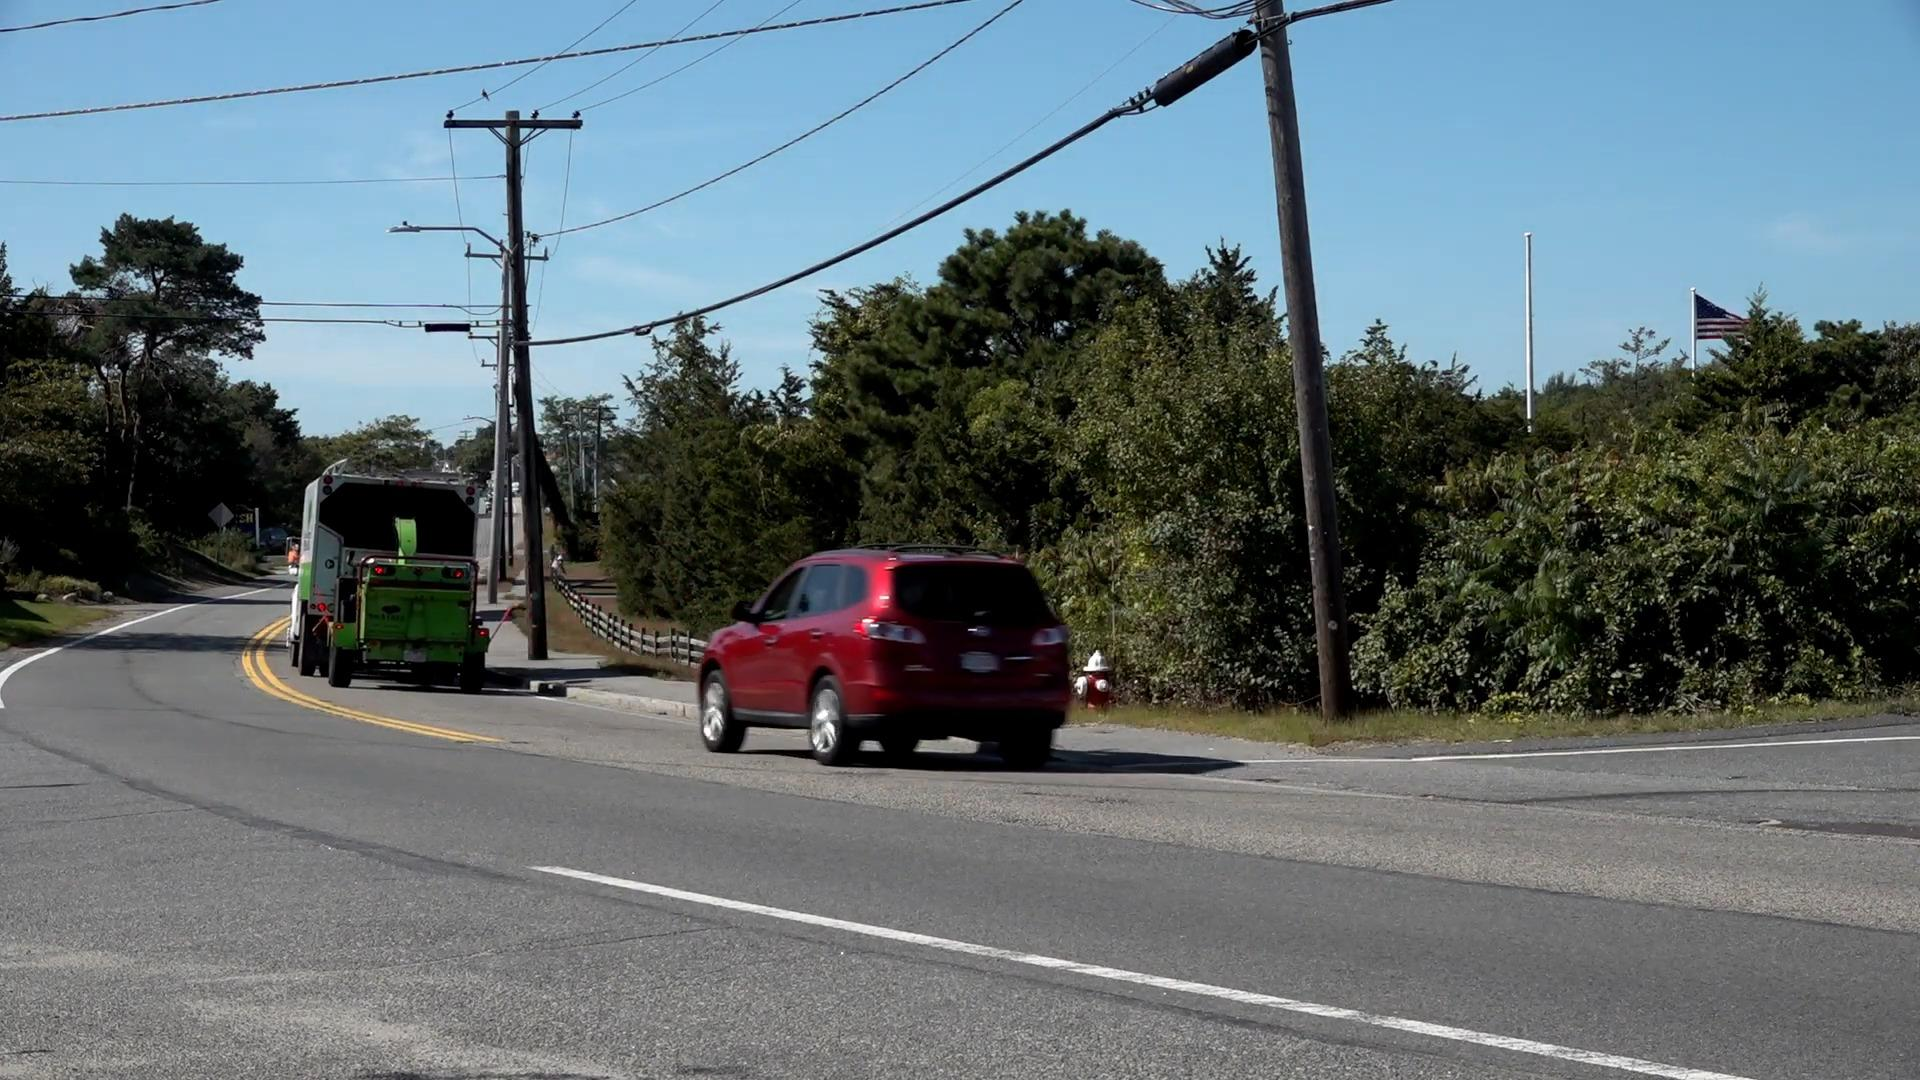suv: (698, 545, 1067, 769)
